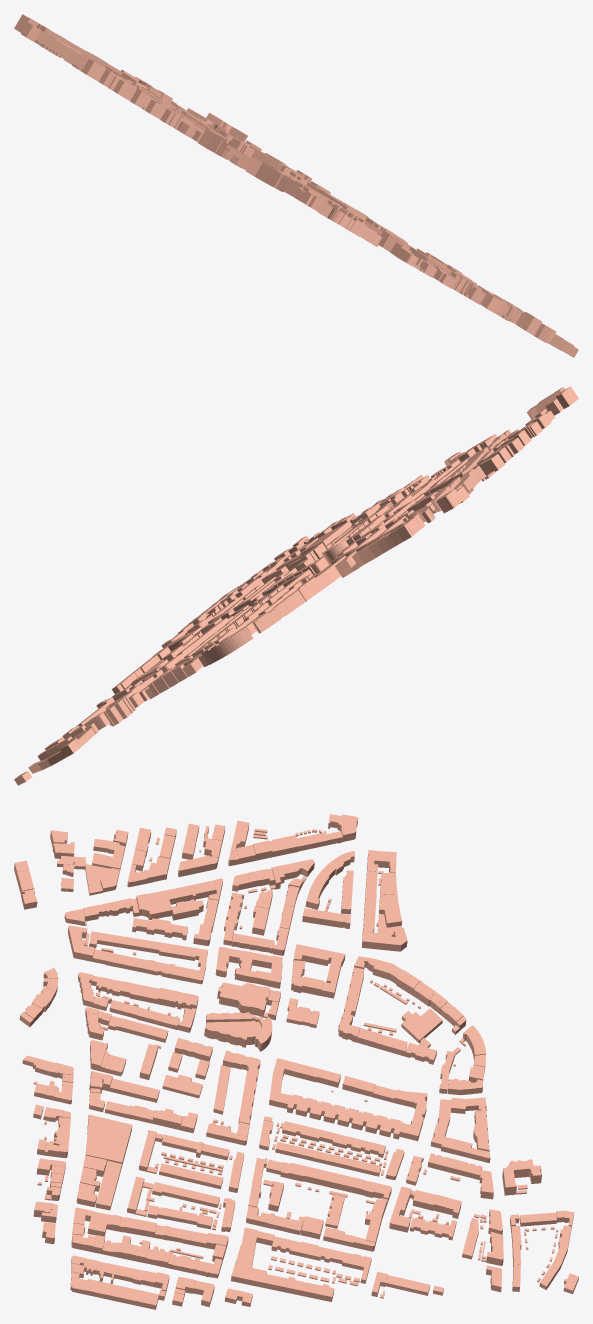
3 views of the same model, one above another, from view 1: azimuth 30°, elevation 25°; view 2: azimuth 150°, elevation 25°; view 3: azimuth 270°, elevation 25° (orthographic). The views are drawn at different scales.
Bounding box in the file's own units: 508 × 392 × 640.
